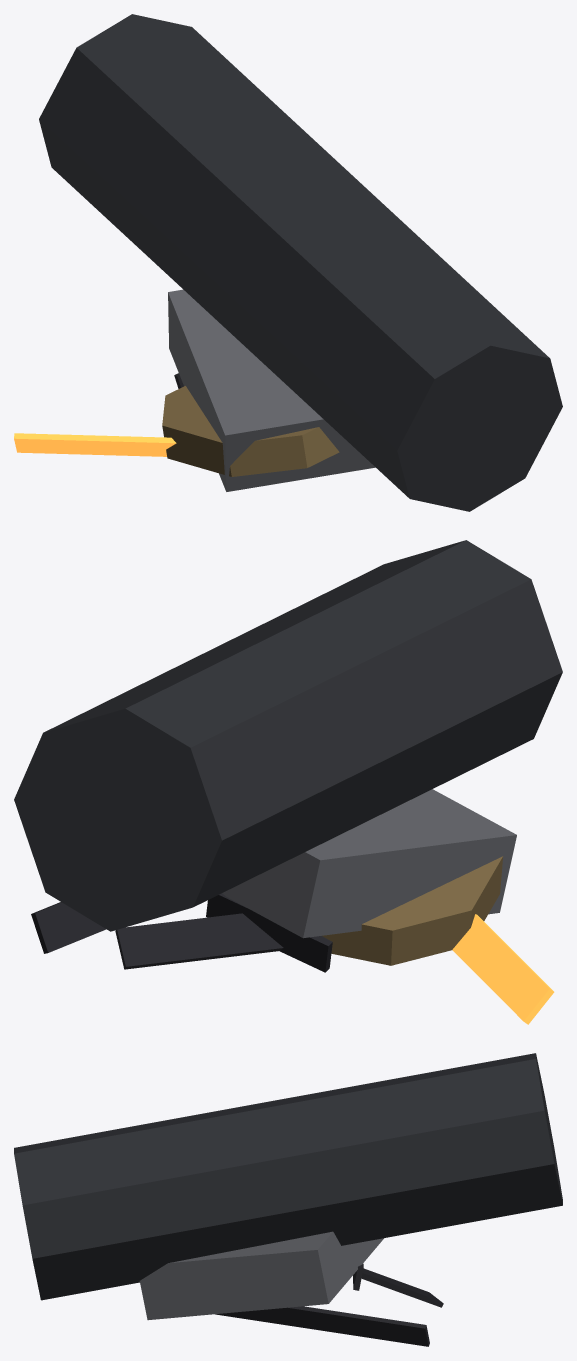
The model's file is Wreck_Aegis_PulsePost.fbx.
3 views of the same model, one above another, from view 1: azimuth 30°, elevation 25°; view 2: azimuth 150°, elevation 25°; view 3: azimuth 270°, elevation 25° (orthographic). The views are drawn at different scales.
Visible parts, largest first — view 1: Wreck_Aegis_PulsePost; view 2: Wreck_Aegis_PulsePost; view 3: Wreck_Aegis_PulsePost.
Boxes of the visible parts, <box> form: Wreck_Aegis_PulsePost: <box>14,14,562,511</box>; Wreck_Aegis_PulsePost: <box>14,540,562,1024</box>; Wreck_Aegis_PulsePost: <box>14,1053,562,1346</box>.
Size of the model in its own units: 0.7544 by 0.5489 by 1.14.
